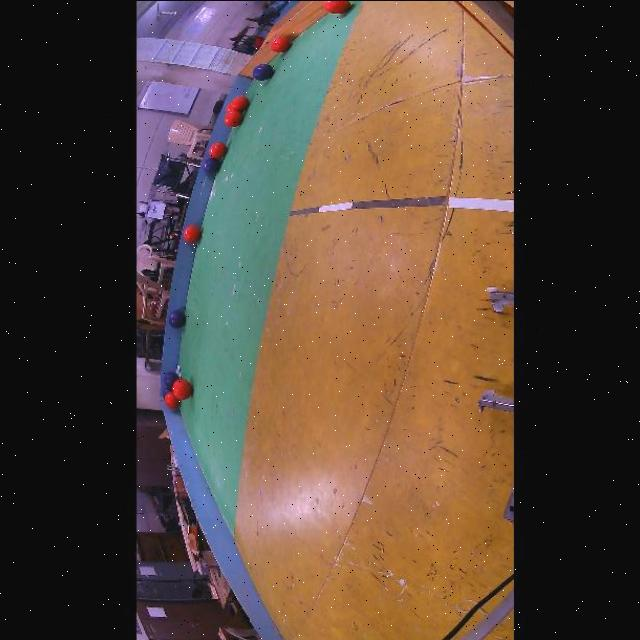P: (168, 310, 185, 327), (202, 157, 221, 172), (164, 370, 179, 387), (163, 386, 171, 397)
R: (172, 378, 193, 399), (323, 0, 350, 14), (270, 36, 291, 52), (224, 109, 243, 126), (209, 141, 227, 158), (164, 390, 181, 408), (184, 225, 201, 242), (231, 95, 249, 111), (226, 102, 236, 112)
